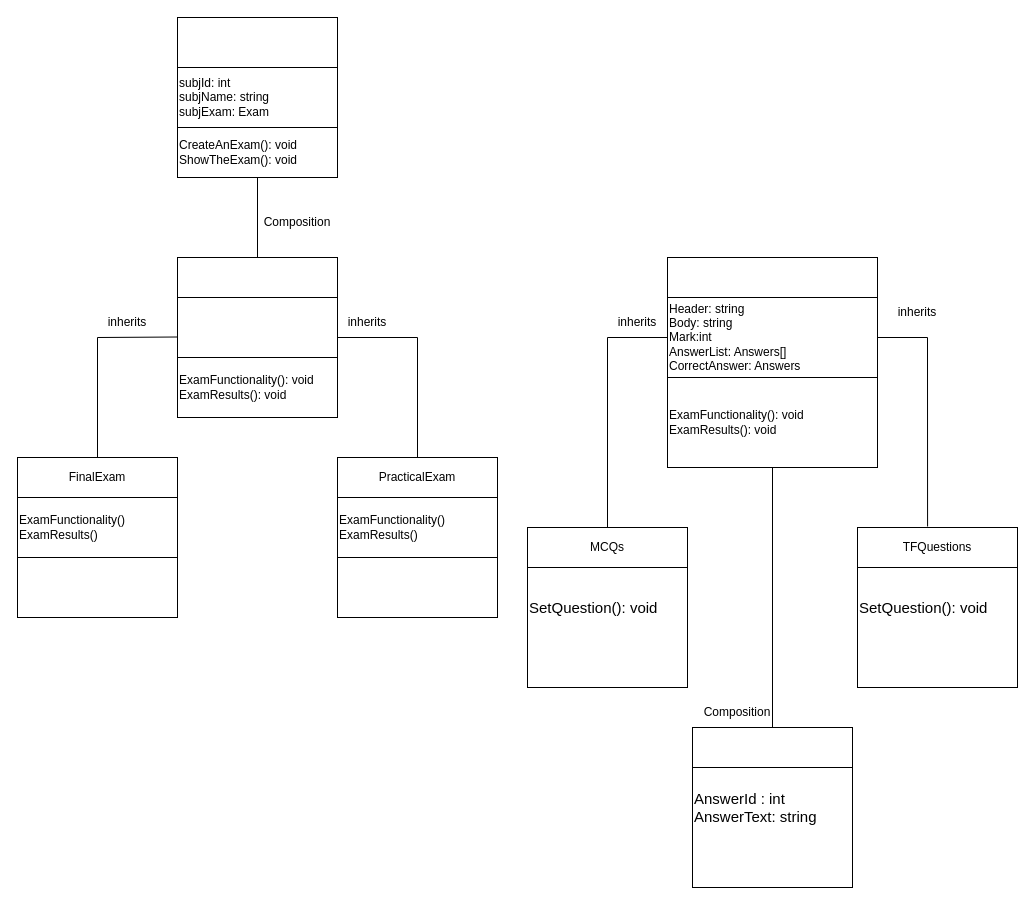
The diagram is 1035 pixels wide and 905 high, and some of its shapes have lost their labels. The centre of each missing label's shape, as x and y in pixels:
"Answers" goes at (x=772, y=747).
"Exam" goes at (x=257, y=277).
"Question" goes at (x=772, y=277).
"Subject" goes at (x=257, y=42).
"Time: int NoOfQuestions: int Questions: Question[]" goes at (x=257, y=327).
